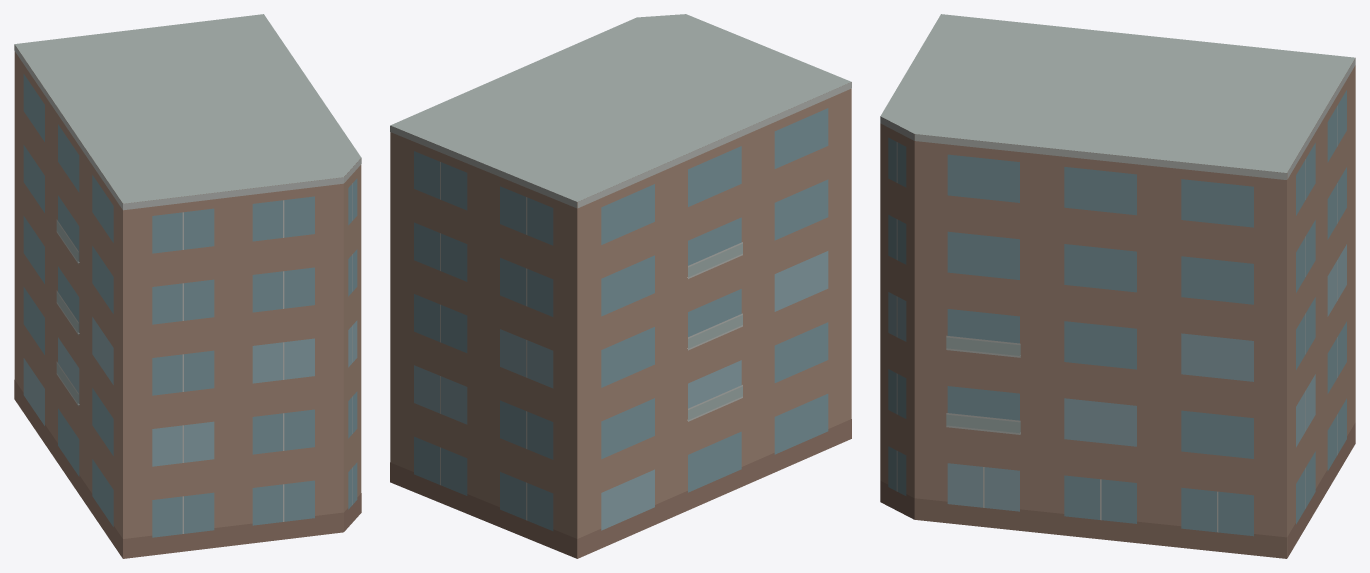
File: survey-upis-32879256.glb
The picture shows the model from 3 angles, left to right: view 1: azimuth 30°, elevation 25°; view 2: azimuth 150°, elevation 25°; view 3: azimuth 270°, elevation 25°; orthographic projection. The views are drawn at different scales.
Visible parts, largest first — view 1: survey-upis-32879256.tmp; view 2: survey-upis-32879256.tmp; view 3: survey-upis-32879256.tmp.
Part boxes in pixels (x1,y1,x2,y2): survey-upis-32879256.tmp: [14, 14, 361, 558]; survey-upis-32879256.tmp: [390, 14, 851, 558]; survey-upis-32879256.tmp: [880, 14, 1355, 558].
Size of the model in its own units: 11.77 by 13.3 by 14.86.
